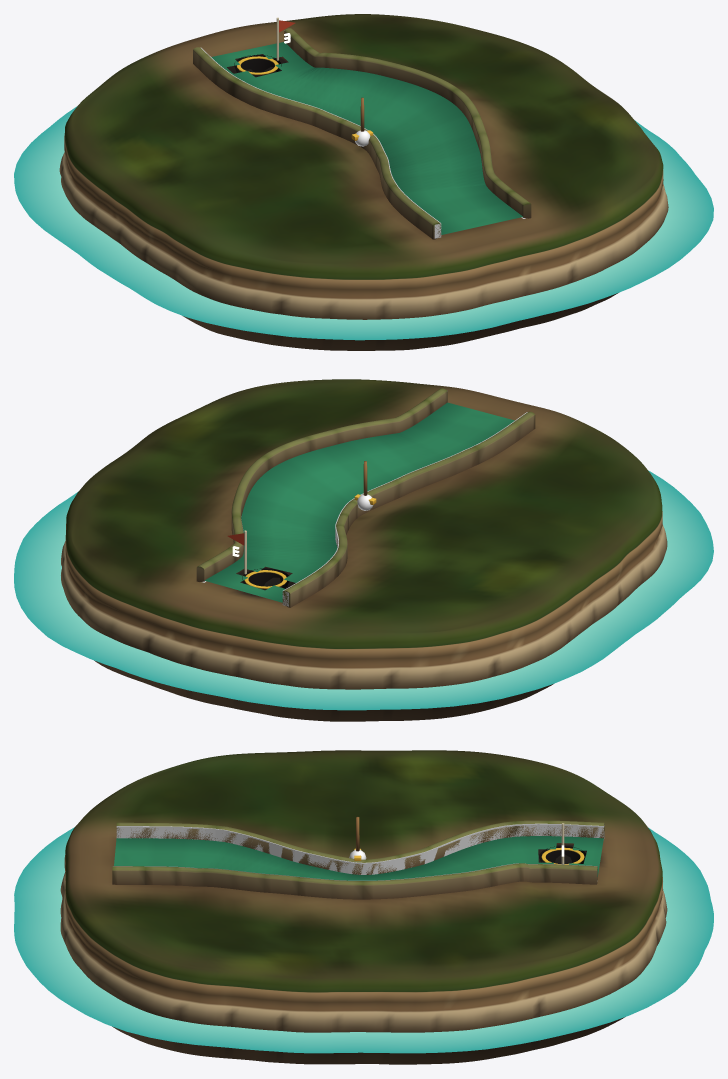
Rendered from course-03.glb.
3 renders of one model, top to bottom at view 1: azimuth 30°, elevation 25°; view 2: azimuth 150°, elevation 25°; view 3: azimuth 270°, elevation 25°, orthographic.
Parts seen in each view (by area): view 1: scenery-matte, water-shore, surface-grass, rail-trim-left, rail-trim-right; view 2: scenery-matte, water-shore, surface-grass, rail-trim-left, rail-trim-right; view 3: scenery-matte, water-shore, surface-grass, rail-trim-right, rail-left, rail-trim-left.
Boxes of the visible parts, x1,y1,x2,y2 form: scenery-matte: (59,14,668,350); water-shore: (14,106,713,340); surface-grass: (211,42,522,234); rail-trim-left: (193,47,441,239); rail-trim-right: (284,28,531,218); scenery-matte: (61,379,667,721); water-shore: (14,470,713,710); surface-grass: (205,402,514,602); rail-trim-left: (282,411,535,607); rail-trim-right: (196,388,447,581); scenery-matte: (60,750,667,1064); water-shore: (14,827,713,1053); surface-grass: (114,836,603,880); rail-trim-right: (112,863,597,899); rail-left: (116,823,604,874); rail-trim-left: (116,820,604,874).
Bounding box in the file's own units: 11.93 × 3.06 × 12.82.
